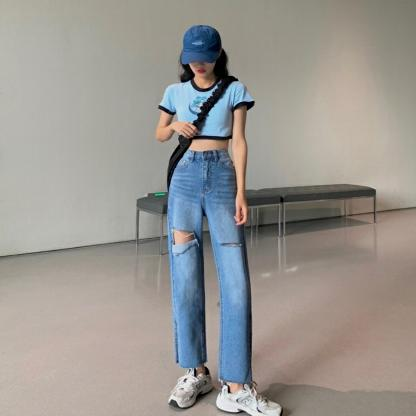jacket: (160, 80, 254, 140)
